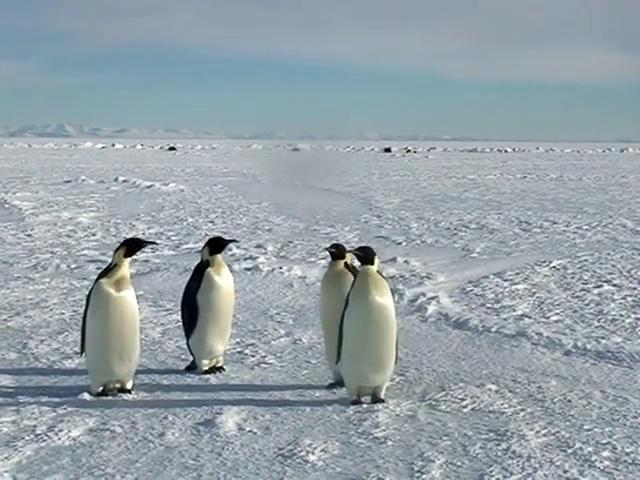animal: (337, 247, 397, 405)
